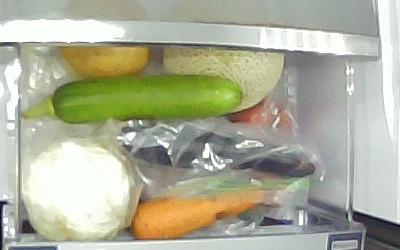cabbage_vinyl: (22, 139, 131, 240)
carrot: (128, 184, 268, 240)
eggplant_vinyl: (117, 118, 316, 179)
melon: (161, 44, 284, 113)
pear: (55, 45, 150, 78)
tomato_vinyl: (229, 97, 292, 140)
zucchini: (19, 72, 244, 124)
